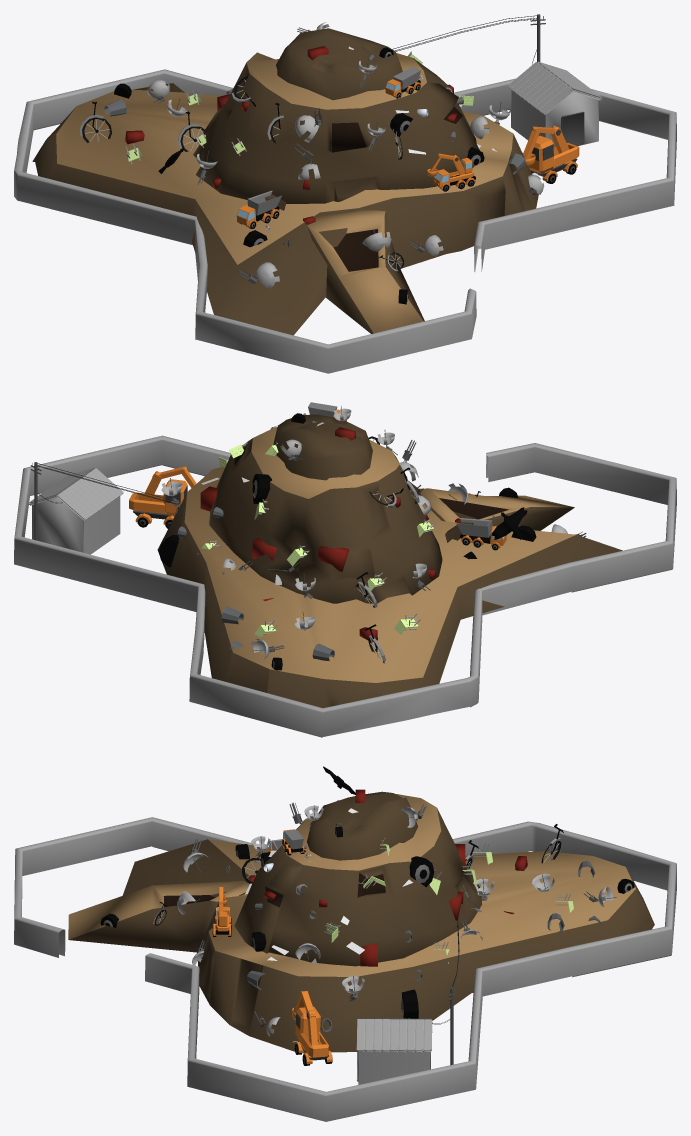
Rendered from Landfill .fbx.
3 views of the same model, one above another, from view 1: azimuth 30°, elevation 25°; view 2: azimuth 150°, elevation 25°; view 3: azimuth 270°, elevation 25° (orthographic).
Visible parts, largest first — view 1: Main landfill, Wall, Garbaje, hut, Crane type 1, Crane type 2, Truck. throwing, Truck; view 2: Main landfill, Wall, Garbaje, hut, Crane type 1, Truck. throwing, Crow; view 3: Main landfill, Wall, Garbaje, hut, Crane type 1, Crane type 2.
Part boxes in pixels (x1=…): Main landfill: x1=32, y1=28, x2=538, y2=335; Wall: x1=14, y1=69, x2=676, y2=373; Garbaje: x1=79, y1=22, x2=544, y2=304; hut: x1=508, y1=61, x2=602, y2=147; Crane type 1: x1=523, y1=125, x2=579, y2=183; Crane type 2: x1=427, y1=153, x2=475, y2=191; Truck. throwing: x1=236, y1=190, x2=282, y2=228; Truck: x1=385, y1=67, x2=421, y2=98; Main landfill: x1=157, y1=414, x2=622, y2=707; Wall: x1=14, y1=435, x2=676, y2=737; Garbaje: x1=158, y1=406, x2=586, y2=670; hut: x1=28, y1=468, x2=123, y2=554; Crane type 1: x1=129, y1=466, x2=196, y2=528; Truck. throwing: x1=456, y1=518, x2=506, y2=550; Crow: x1=491, y1=507, x2=527, y2=539; Main landfill: x1=68, y1=791, x2=654, y2=1052; Wall: x1=14, y1=817, x2=676, y2=1121; Garbaje: x1=100, y1=789, x2=634, y2=1042; hut: x1=356, y1=1018, x2=432, y2=1084; Crane type 1: x1=292, y1=991, x2=332, y2=1065; Crane type 2: x1=212, y1=887, x2=231, y2=936.
Bounding box in the file's own units: 294 × 90.97 × 296.
